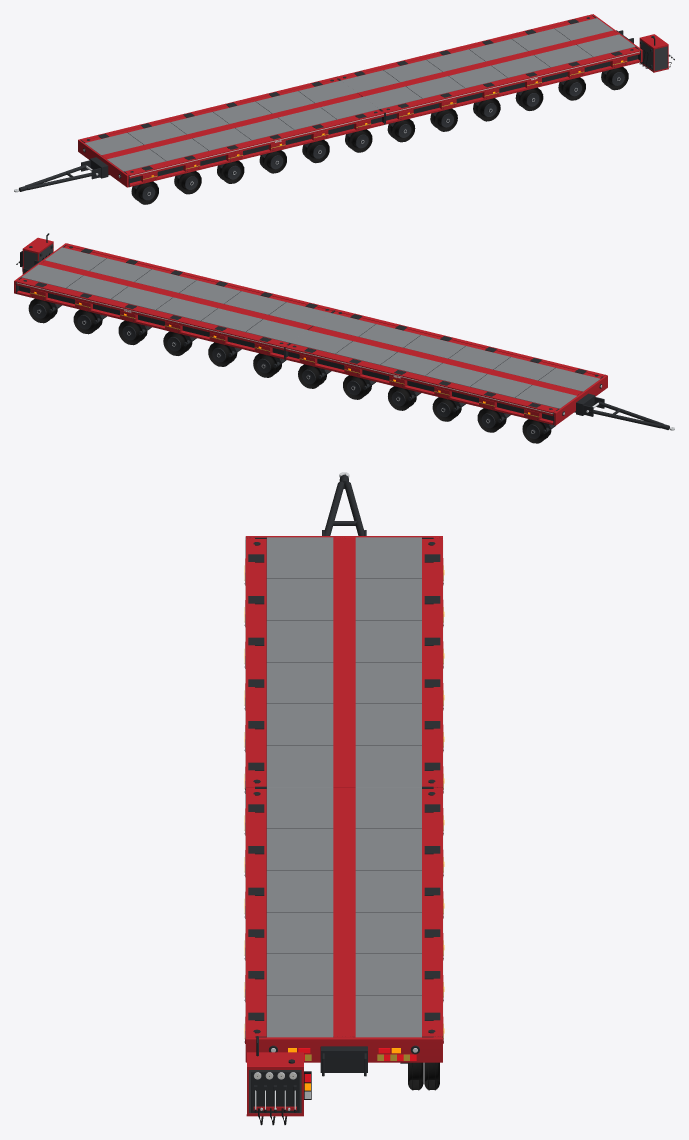
Rendered from hydraulic-axle-trailer.glb.
The picture shows the model from 3 angles, top to bottom: view 1: azimuth 30°, elevation 25°; view 2: azimuth 150°, elevation 25°; view 3: azimuth 270°, elevation 25°; orthographic projection. The views are drawn at different scales.
Parts seen in each view (by area): view 1: trailer_module_1, trailer_module_2, trailer_headboard, trailer_power_pack, trailer_towbar_geo, trailer_wheel_09_L, trailer_wheel_06_L, trailer_wheel_03_L, trailer_wheel_10_L, trailer_wheel_11_L, trailer_wheel_01_L, trailer_wheel_02_L (+5 smaller); view 2: trailer_module_1, trailer_module_2, trailer_headboard, trailer_power_pack, trailer_towbar_geo, trailer_wheel_01_R, trailer_wheel_10_R, trailer_wheel_02_R, trailer_wheel_03_R, trailer_wheel_12_R, trailer_wheel_07_R, trailer_wheel_06_R (+5 smaller); view 3: trailer_module_1, trailer_module_2, trailer_endboard, trailer_power_pack, trailer_towbar_geo.
Part boxes in pixels (x1=…): trailer_module_1: x1=80, y1=77, x2=384, y2=187; trailer_module_2: x1=336, y1=14, x2=640, y2=124; trailer_headboard: x1=78, y1=139, x2=128, y2=187; trailer_power_pack: x1=639, y1=34, x2=674, y2=72; trailer_towbar_geo: x1=14, y1=164, x2=95, y2=192; trailer_wheel_09_L: x1=473, y1=98, x2=500, y2=121; trailer_wheel_06_L: x1=345, y1=129, x2=372, y2=152; trailer_wheel_03_L: x1=217, y1=160, x2=244, y2=183; trailer_wheel_10_L: x1=515, y1=87, x2=543, y2=110; trailer_wheel_11_L: x1=558, y1=77, x2=585, y2=100; trailer_wheel_01_L: x1=131, y1=181, x2=158, y2=204; trailer_wheel_02_L: x1=174, y1=171, x2=201, y2=194; trailer_module_1: x1=285, y1=309, x2=605, y2=424; trailer_module_2: x1=15, y1=243, x2=336, y2=359; trailer_headboard: x1=554, y1=375, x2=607, y2=425; trailer_power_pack: x1=16, y1=233, x2=53, y2=274; trailer_towbar_geo: x1=588, y1=401, x2=674, y2=430; trailer_wheel_01_R: x1=522, y1=419, x2=551, y2=443; trailer_wheel_10_R: x1=118, y1=320, x2=147, y2=345; trailer_wheel_02_R: x1=477, y1=408, x2=506, y2=432; trailer_wheel_03_R: x1=432, y1=397, x2=461, y2=421; trailer_wheel_12_R: x1=28, y1=298, x2=57, y2=323; trailer_wheel_07_R: x1=253, y1=353, x2=281, y2=377; trailer_wheel_06_R: x1=298, y1=364, x2=326, y2=388; trailer_module_1: x1=244, y1=537, x2=444, y2=793; trailer_module_2: x1=244, y1=787, x2=444, y2=1043; trailer_endboard: x1=245, y1=1037, x2=442, y2=1076; trailer_power_pack: x1=246, y1=1036, x2=311, y2=1125; trailer_towbar_geo: x1=324, y1=472, x2=363, y2=535.
Size of the model in its own units: 22.43 by 1.47 by 3.04.
